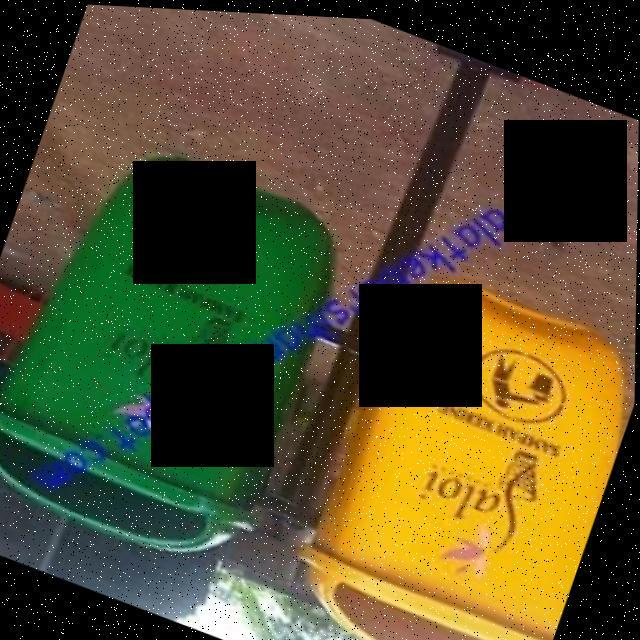bin: (0, 103, 383, 610), (257, 227, 638, 640)
